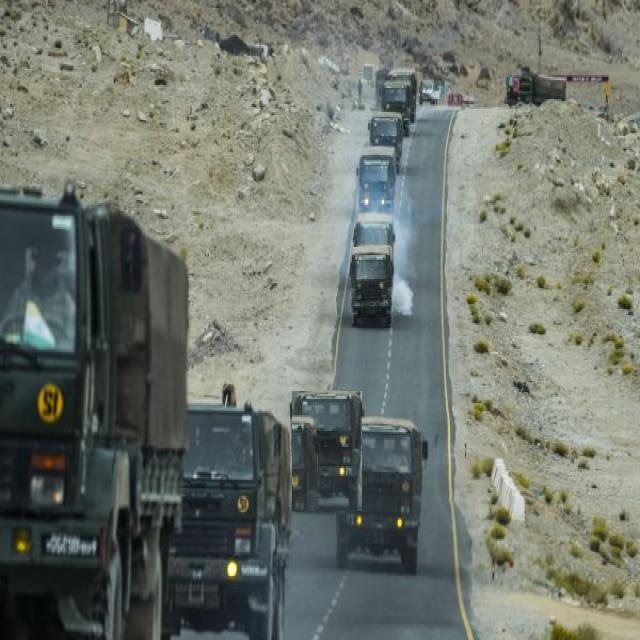truck: (0, 189, 188, 639), (166, 405, 294, 639), (335, 420, 428, 573), (292, 392, 361, 511), (352, 247, 391, 324)
